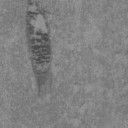oxide scale of plate system: (24, 0, 53, 98)
